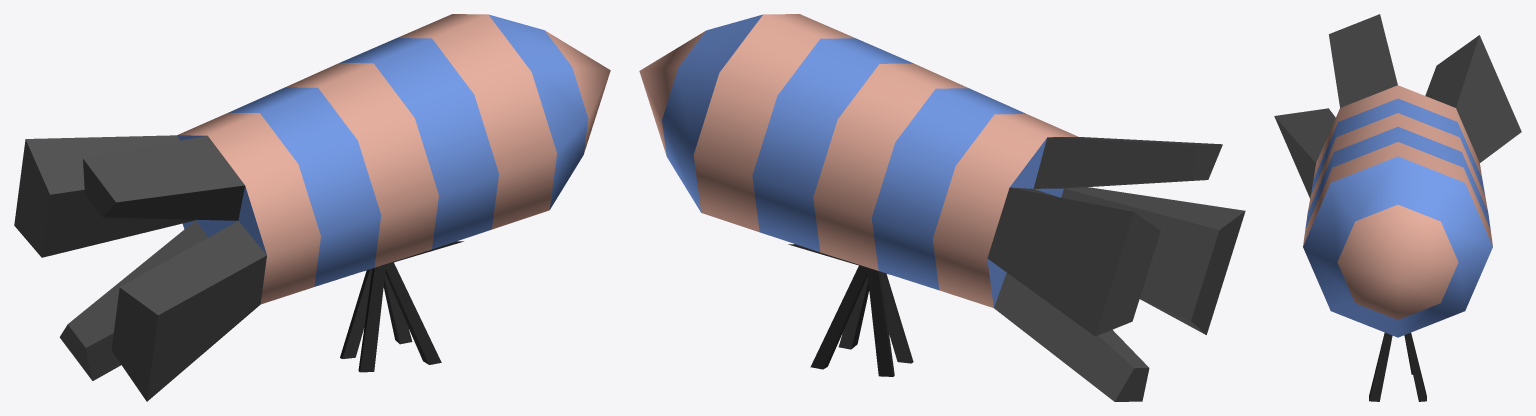
The model's file is rocket.fbx.
3 renders of one model, left to right at view 1: azimuth 30°, elevation 25°; view 2: azimuth 150°, elevation 25°; view 3: azimuth 270°, elevation 25°, orthographic. The views are drawn at different scales.
Visible parts, largest first — view 1: rocket; view 2: rocket; view 3: rocket.
Boxes of the visible parts, box(x1,y1,x2,y2) form: rocket: box(14, 14, 610, 401); rocket: box(639, 14, 1245, 401); rocket: box(1274, 14, 1521, 401).
Bounding box in the file's own units: 196 × 112 × 92.33.
